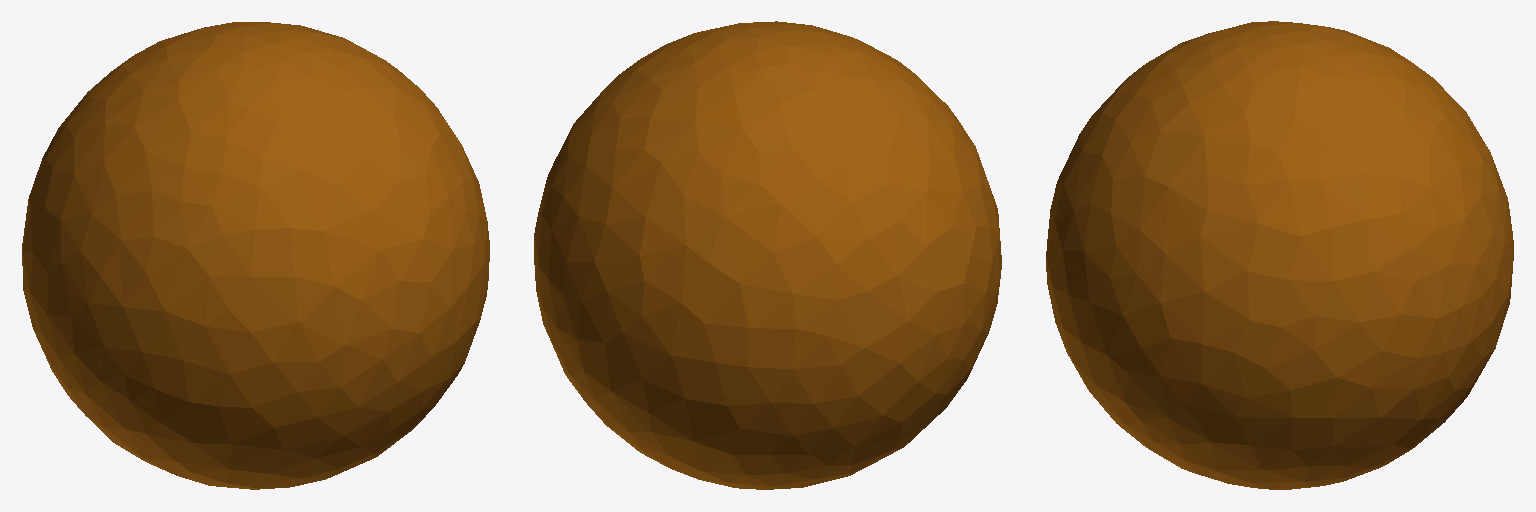
The model's file is sphere_lowpoly.obj.
The picture shows the model from 3 angles: view 1: azimuth 30°, elevation 25°; view 2: azimuth 150°, elevation 25°; view 3: azimuth 270°, elevation 25°; orthographic projection.
Visible parts, largest first — view 1: Sphere; view 2: Sphere; view 3: Sphere.
Boxes of the visible parts, x1,y1,x2,y2 form: Sphere: [22, 22, 489, 489]; Sphere: [534, 21, 1001, 489]; Sphere: [1046, 21, 1513, 489].
Size of the model in its own units: 0.6099 by 0.6109 by 0.6101.